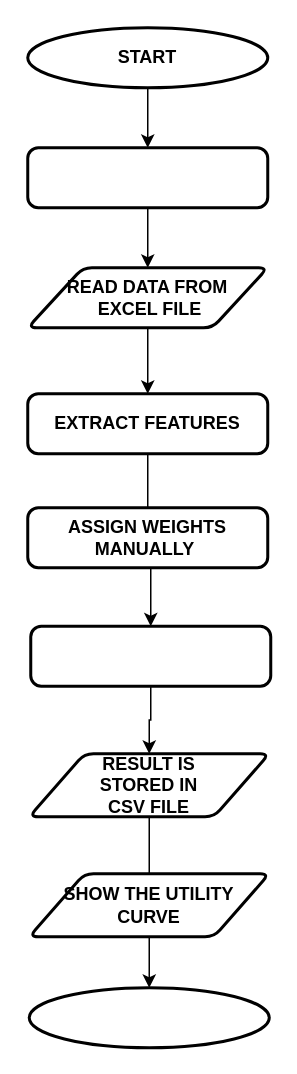
This 297x1074 diagram has some shape labels left out. Each missing label, with the centre of its shape:
"APPLY LINEAR UTILITY FUNCTION" goes at pixel 150 655.
"END" goes at pixel 148 1017.
"IMPORT REQUIRED LIBRARIES" goes at pixel 147 177.
